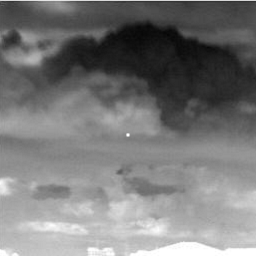Target: (124, 132, 131, 139)
